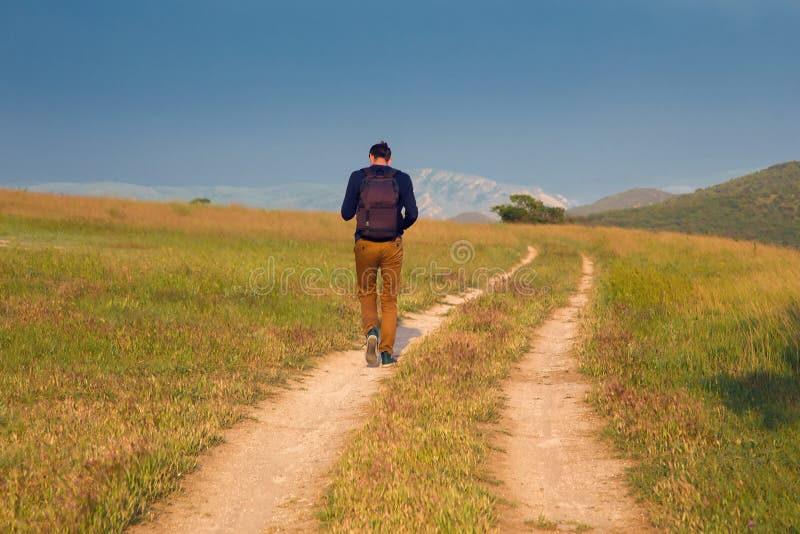Person: (337, 137, 426, 369)
